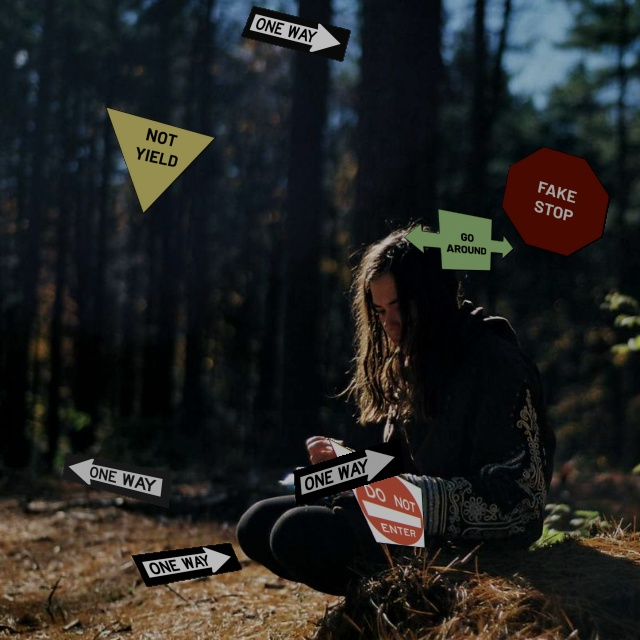DO_NOT_ENTER: (327, 437, 425, 548)
FAKE_STOP: (501, 146, 610, 257)
GO_AROUND: (403, 208, 514, 271)
NOT_YIELD: (105, 106, 216, 214)
ONE_WAY_ left: (61, 452, 172, 508)
ONE_WAY_ right: (293, 437, 404, 506), (240, 5, 351, 62), (131, 542, 242, 587)
